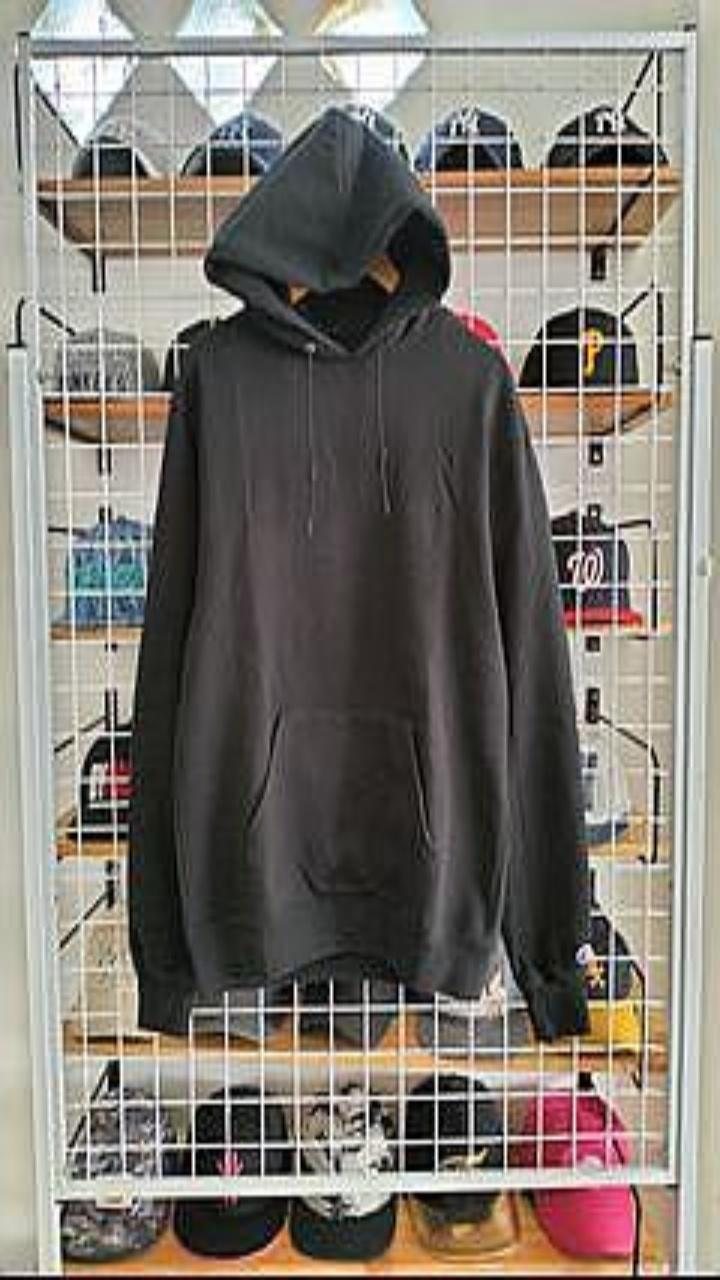Hoodie: (129, 110, 587, 1037)
